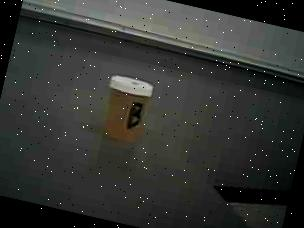Bottle B: (90, 68, 166, 153)
